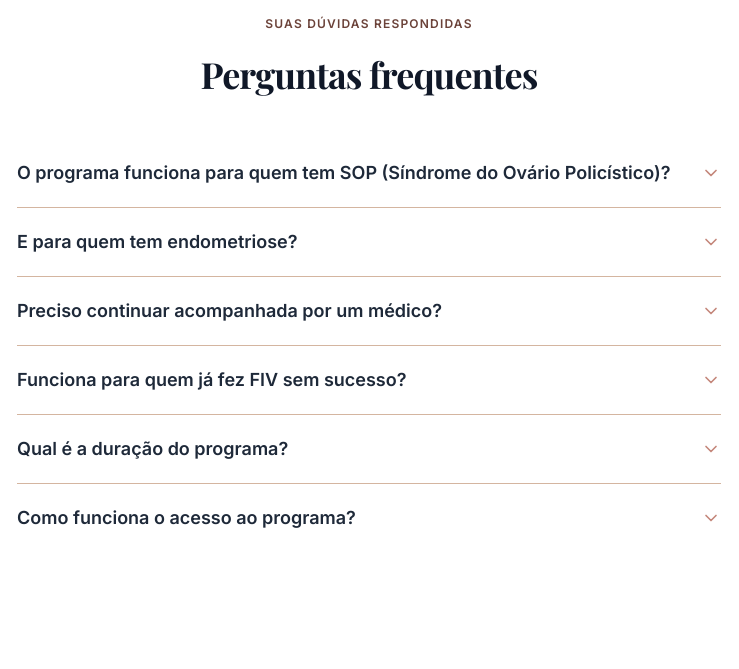
Test: FaqSection › fecha o accordion ao clicar novamente
What coordinates should you click on to do the following:
click the 1st button
I would click on:
 (369, 173)
Its box is [17, 139, 721, 207].
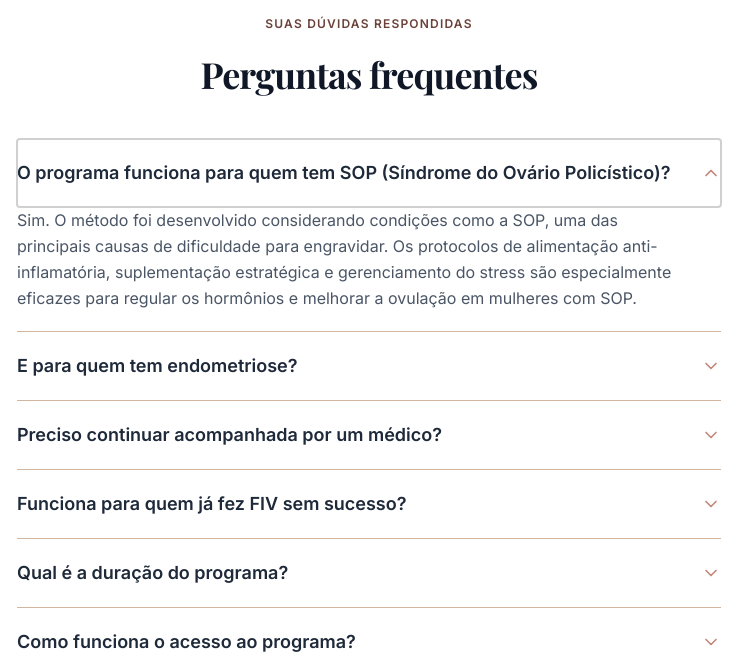
What coordinates should you click on to do the following:
click the 1st button
I would click on:
 (369, 173)
Its box is [17, 139, 721, 207].
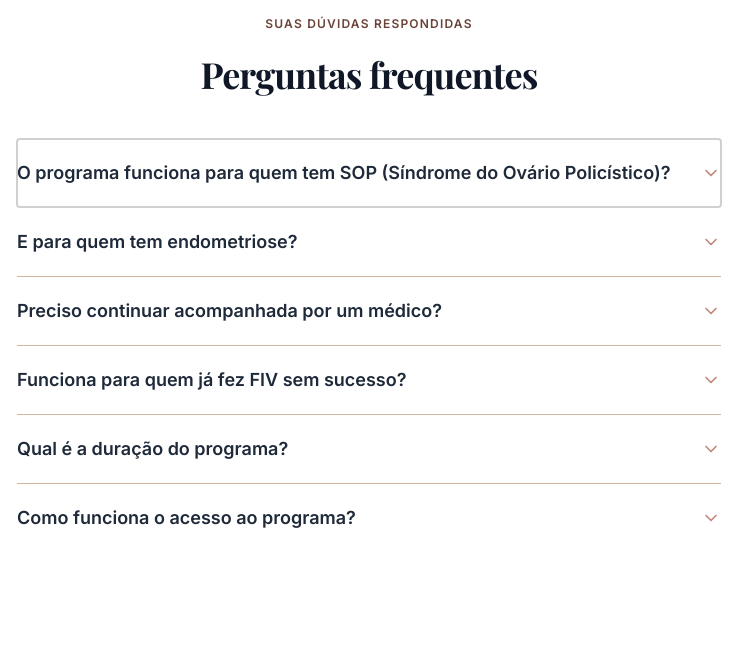
Expected: the 1st button is collapsed, [17, 139, 721, 207]
